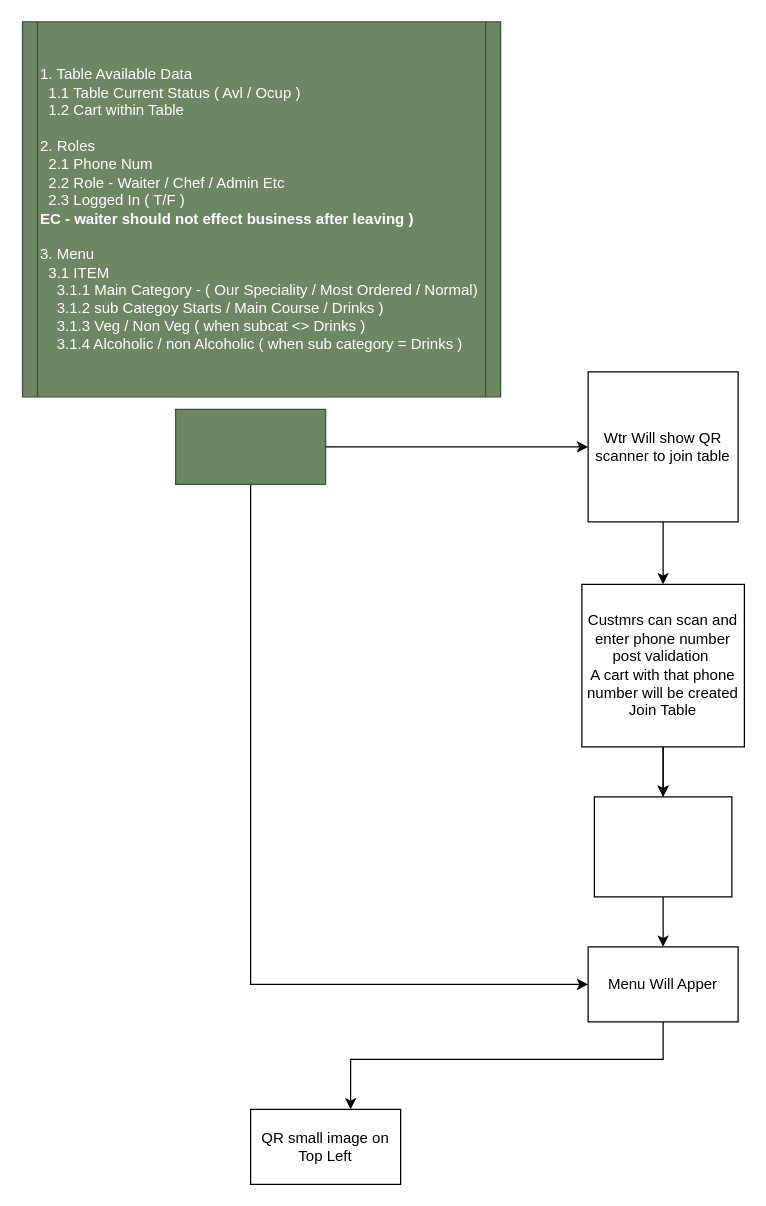
This 766x1206 diagram has some shape labels left out. Each missing label, with the box of its shape:
Bar Mmgt DB: (174, 408, 326, 484)
friends will join the cart by scanning host Qr Code and enter Name: (593, 796, 732, 897)
